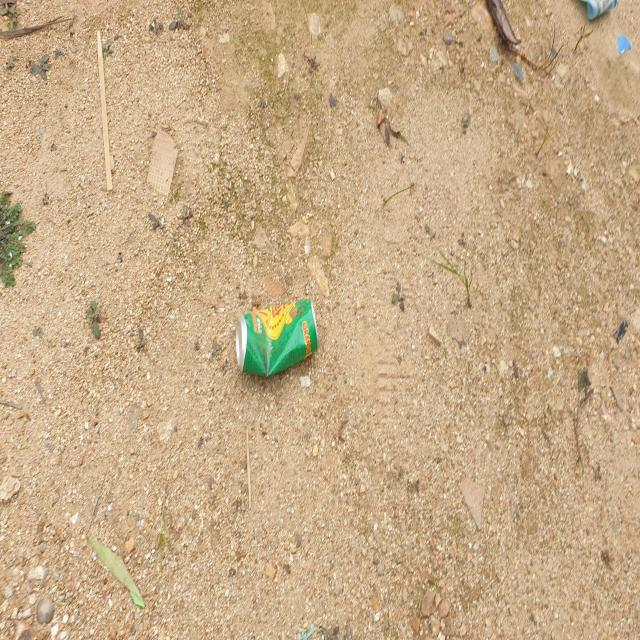can: (236, 298, 319, 376)
